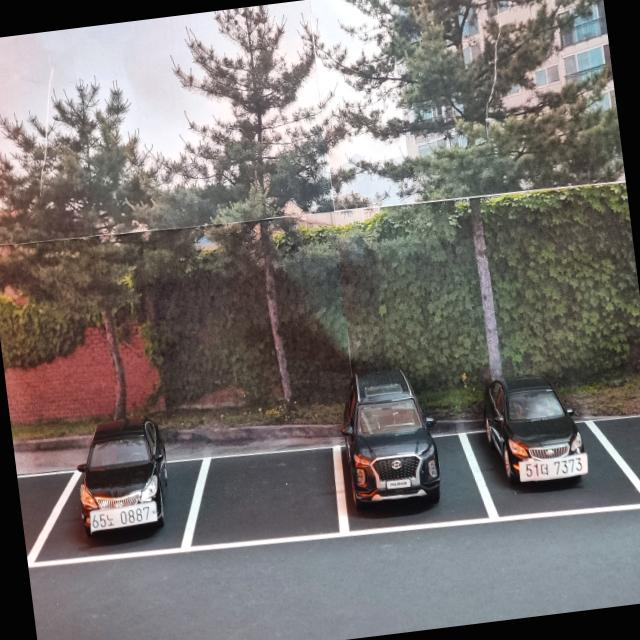car: (335, 358, 450, 526), (67, 404, 176, 540)
free: (182, 429, 352, 564), (593, 401, 640, 509)
